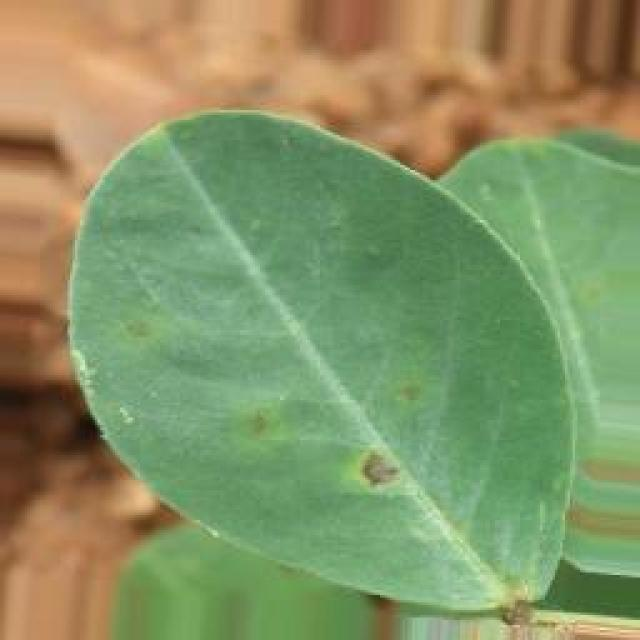Sigatoka: (443, 528, 533, 632), (334, 405, 416, 487), (210, 393, 292, 464)
